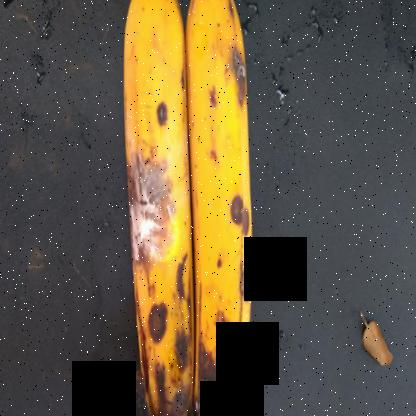overripe: (103, 1, 204, 408), (181, 1, 259, 415)
rotten: (118, 107, 190, 269)
